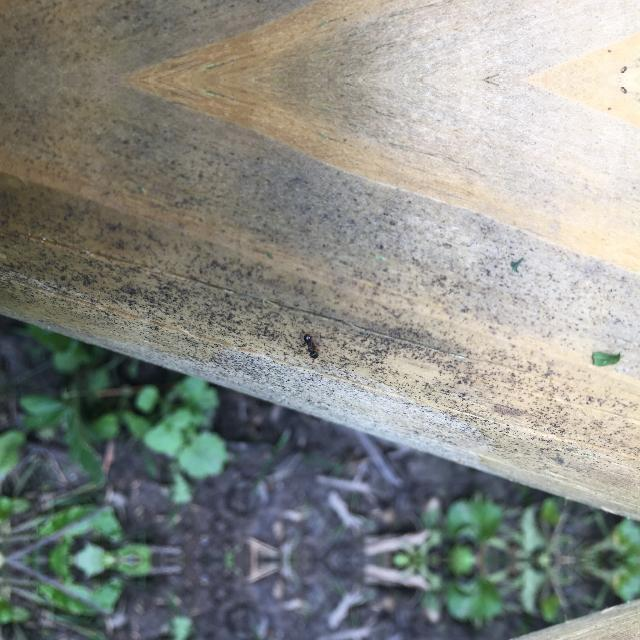Tetramorium: (298, 332, 326, 356)
